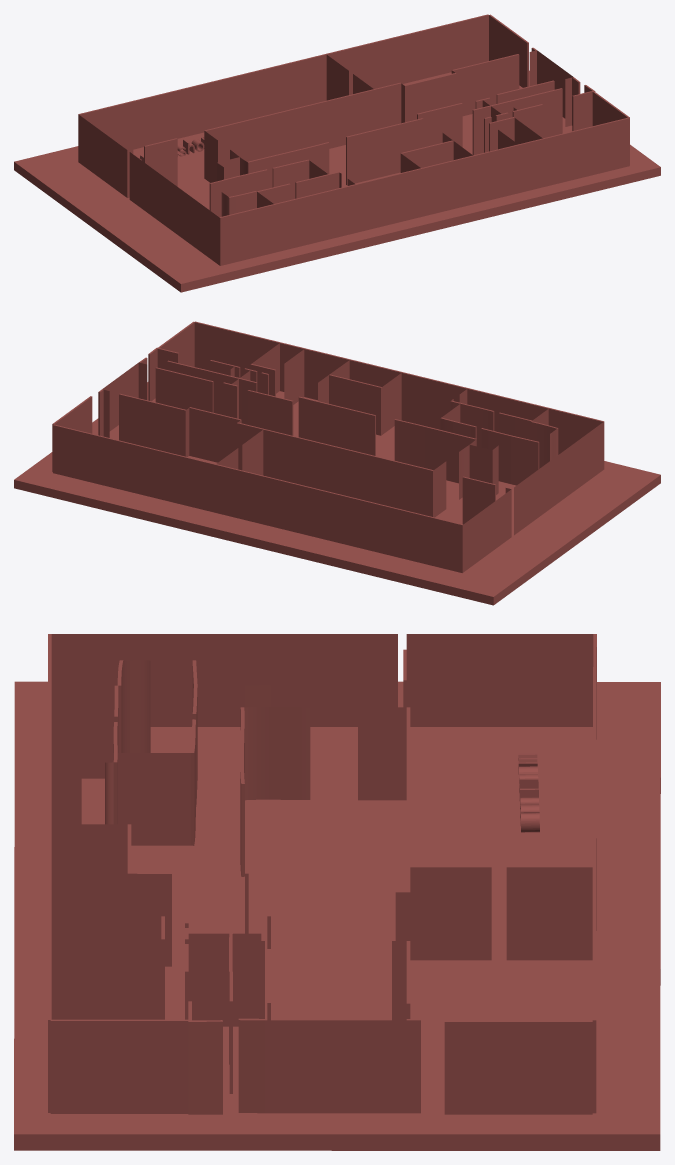
The model's file is Floor 1 v3.fbx.
3 renders of one model, top to bottom at view 1: azimuth 30°, elevation 25°; view 2: azimuth 150°, elevation 25°; view 3: azimuth 270°, elevation 25°, orthographic. The views are drawn at different scales.
Visible parts, largest first — view 1: polySurface1; view 2: polySurface1; view 3: polySurface1.
Part boxes in pixels (<box>): polySurface1: <box>14,14,660,292</box>; polySurface1: <box>14,321,660,605</box>; polySurface1: <box>14,634,660,1150</box>.
Bounding box in the file's own units: 295 × 33.2 × 178.
